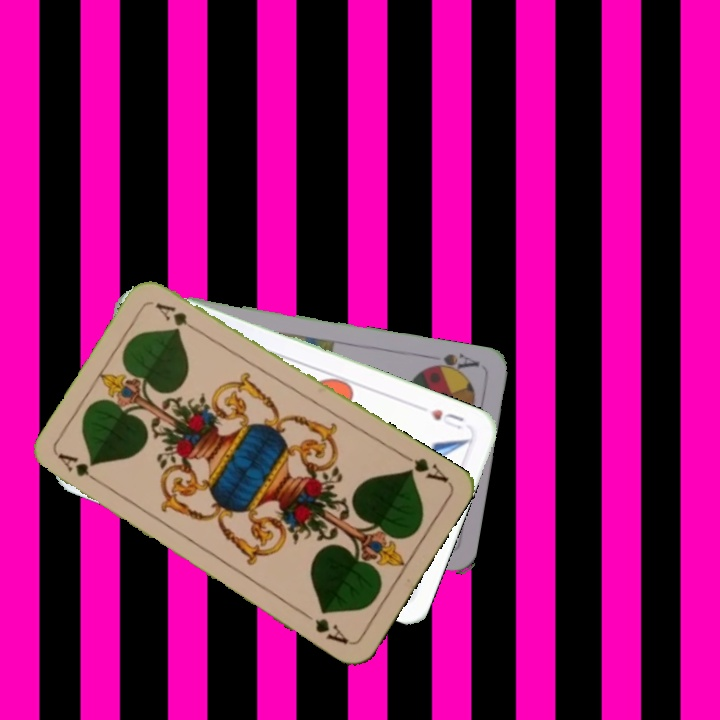GA: (54, 449, 107, 489), (397, 450, 451, 486)
HU: (426, 404, 467, 433)
SA: (422, 349, 482, 378)
